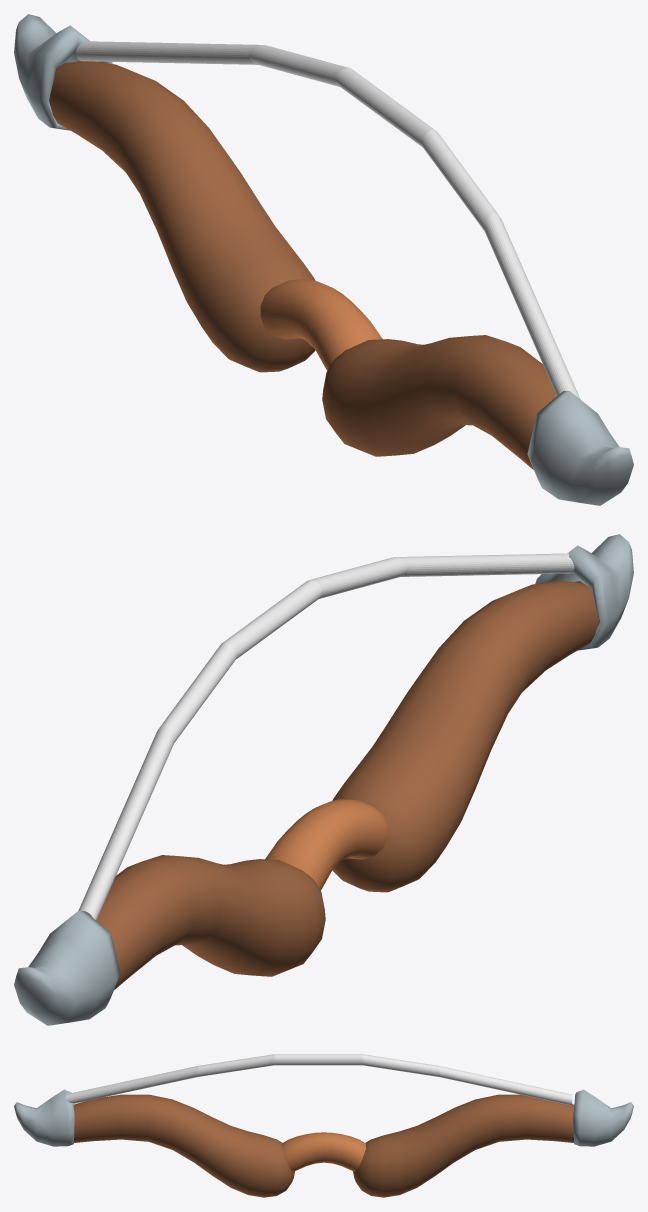
File: bow.glb
3 renders of one model, top to bottom at view 1: azimuth 30°, elevation 25°; view 2: azimuth 150°, elevation 25°; view 3: azimuth 270°, elevation 25°, orthographic. The views are drawn at different scales.
Visible parts, largest first — view 1: bow; view 2: bow; view 3: bow.
Part boxes in pixels (x1,y1,x2,y2): bow: (14,14,633,505); bow: (14,534,633,1025); bow: (14,1054,633,1197).
Bounding box in the file's own units: 0.2839 × 0.671 × 2.44.
